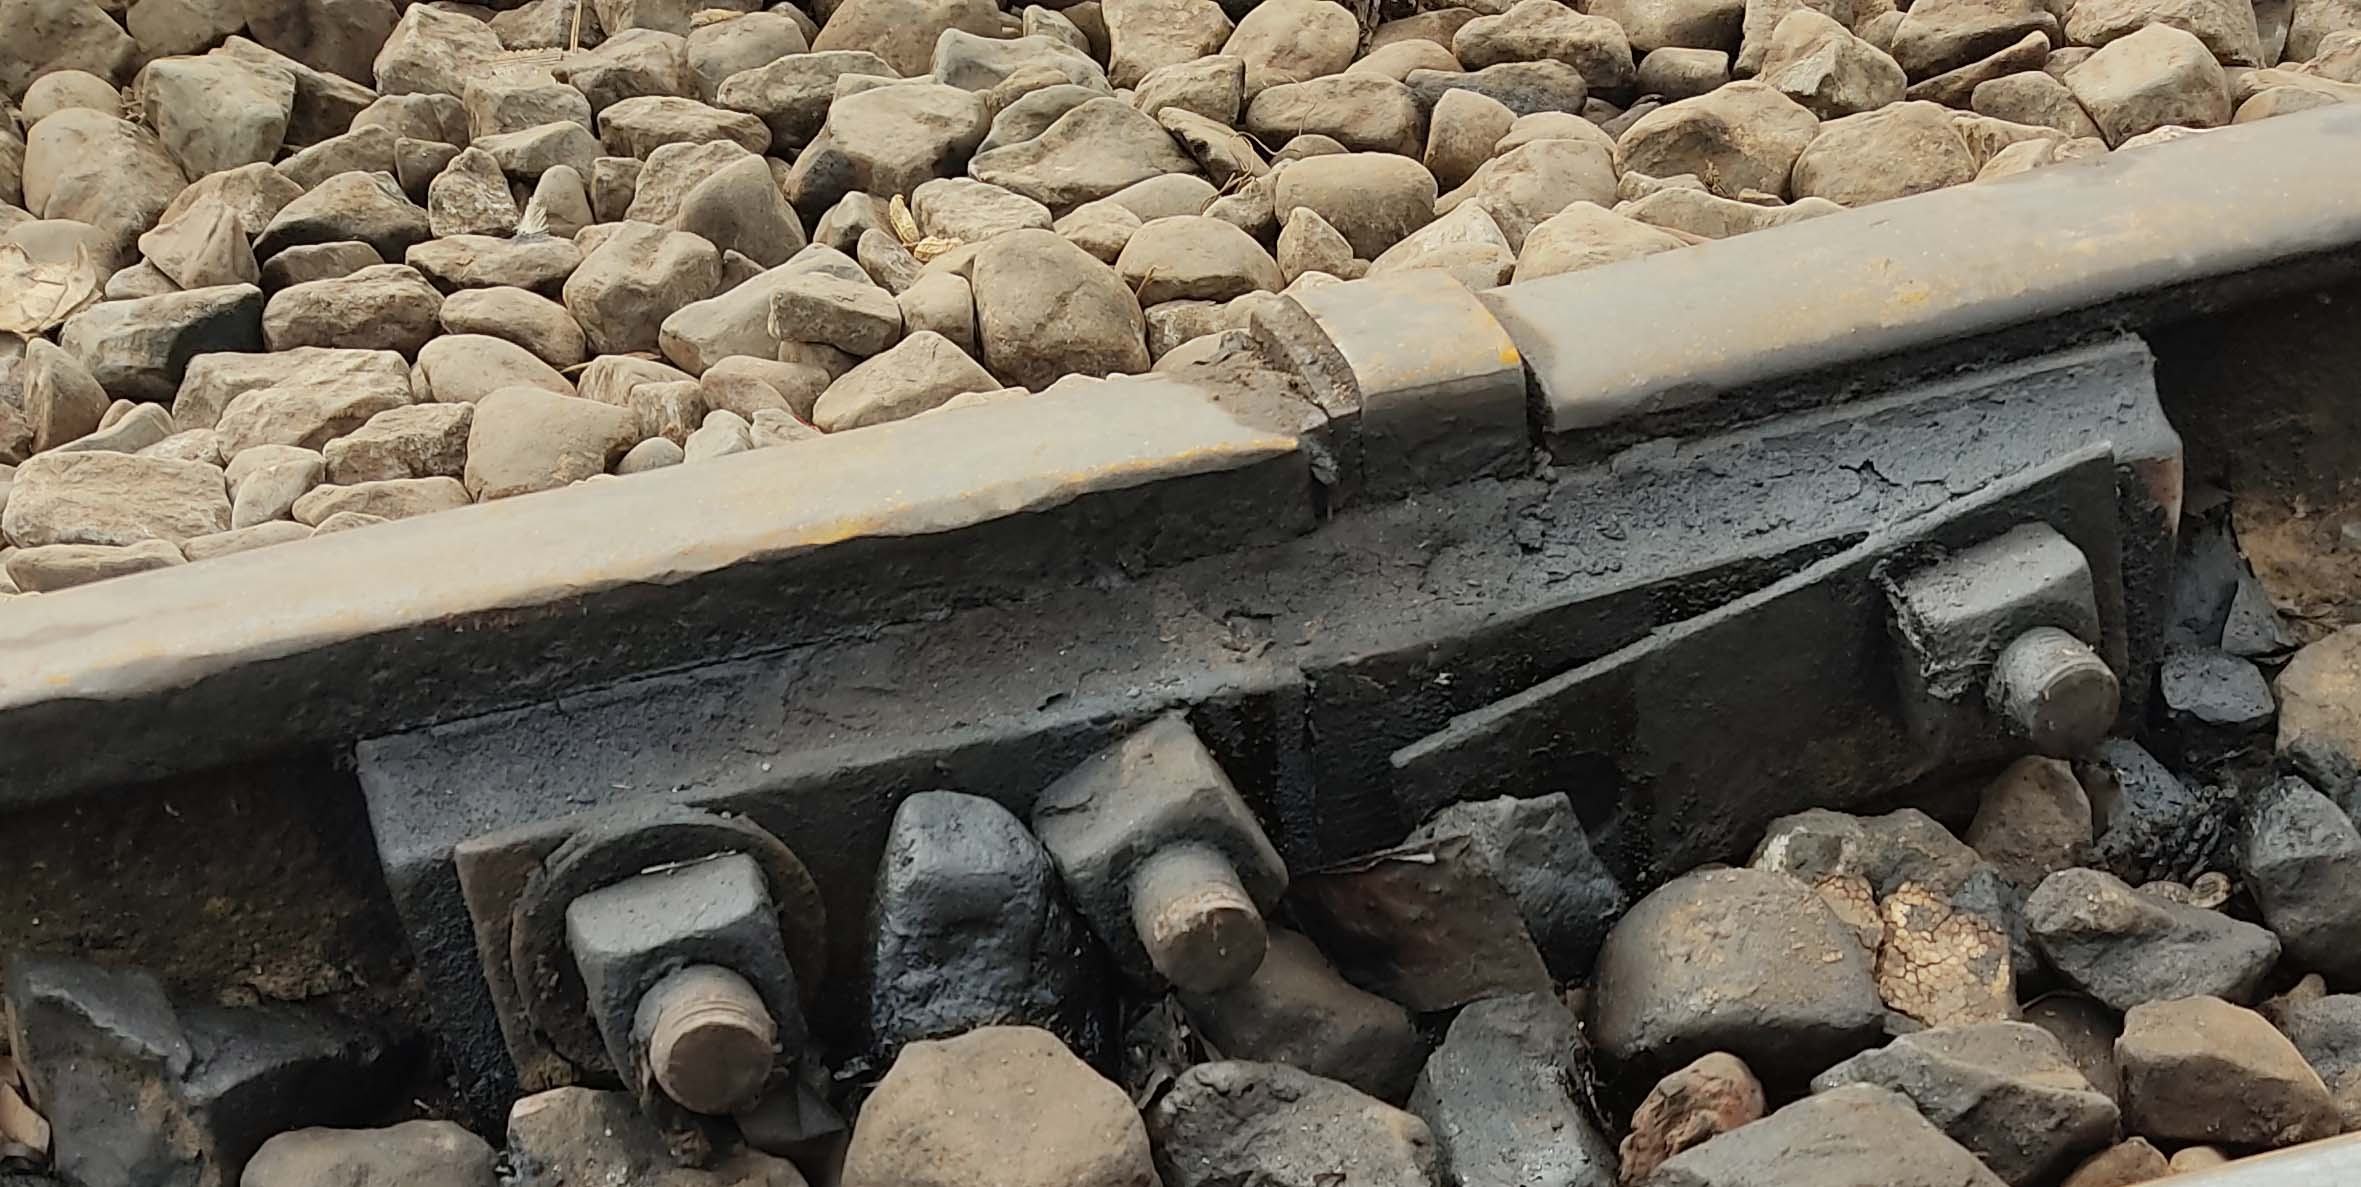error2: (1170, 235, 1662, 515)
